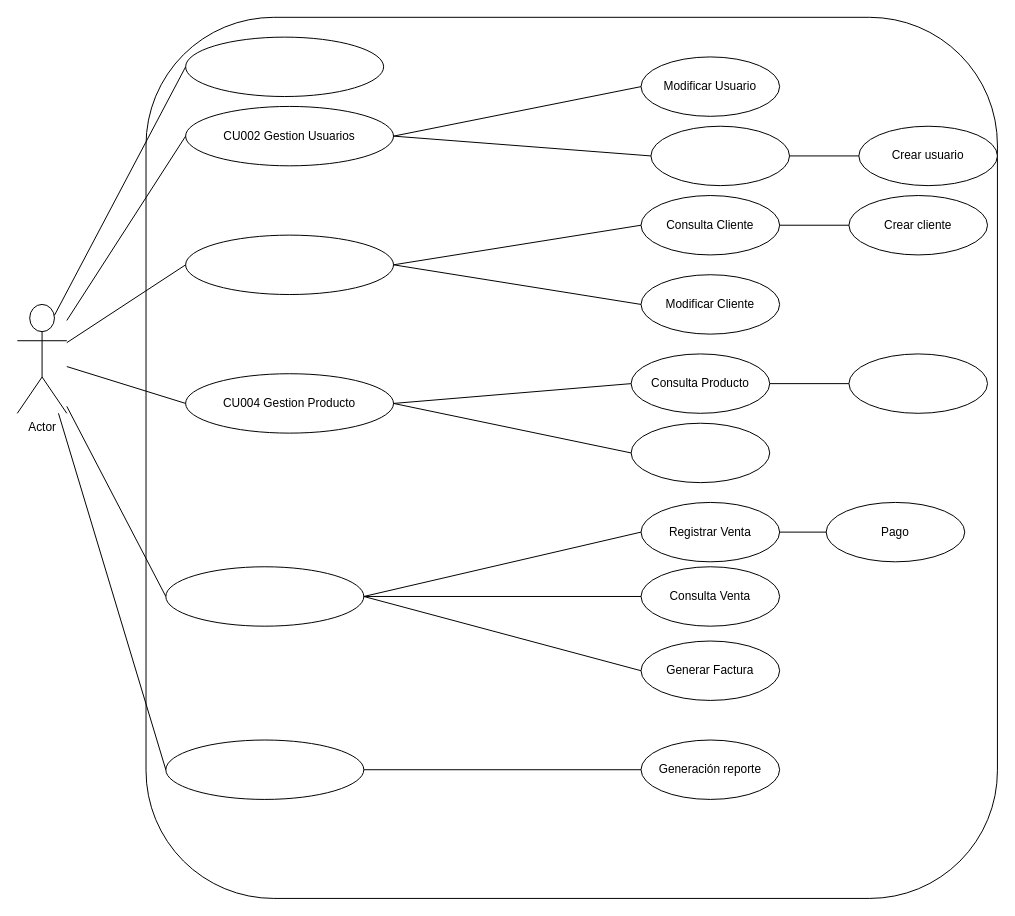
This 1015x916 diagram has some shape labels left out. The centre of each missing label's shape, as x and y in pixels:
"Consulta Usuario" goes at pixel 720 155.
"Crear producto" goes at pixel 918 383.
"CU001 Ingresar al sistema" goes at pixel 284 66.
"CU003 Gestion Clientes" goes at pixel 289 264.
"CU005 Gestion Ventas" goes at pixel 264 596.
"CU006 Reportes" goes at pixel 264 769.
"Modificar Producto" goes at pixel 700 452.
